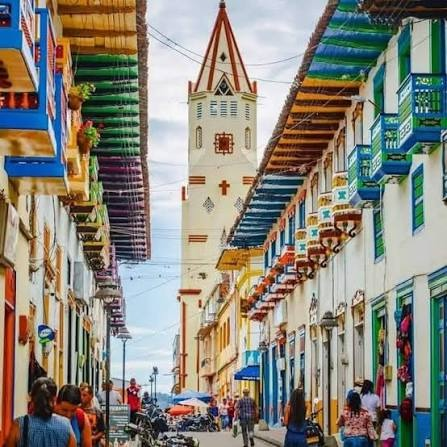car: (159, 393, 212, 423)
